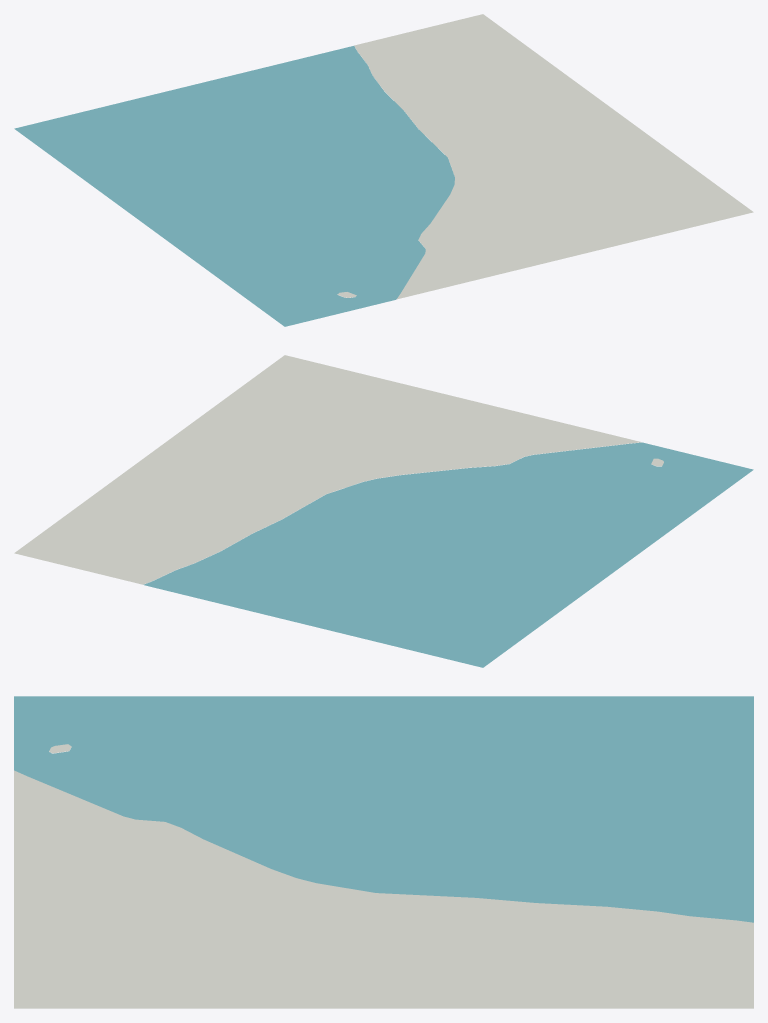
3 renders of one model, top to bottom at view 1: azimuth 30°, elevation 25°; view 2: azimuth 150°, elevation 25°; view 3: azimuth 270°, elevation 25°, orthographic. The views are drawn at different scales.
Visible parts, largest first — view 1: city; view 2: city; view 3: city.
Part boxes in pixels (bbox=[...]): city: bbox=[14, 14, 753, 326]; city: bbox=[14, 355, 753, 667]; city: bbox=[14, 696, 753, 1008].
Bounding box in the file's own units: 500 × 0.18 × 500.
